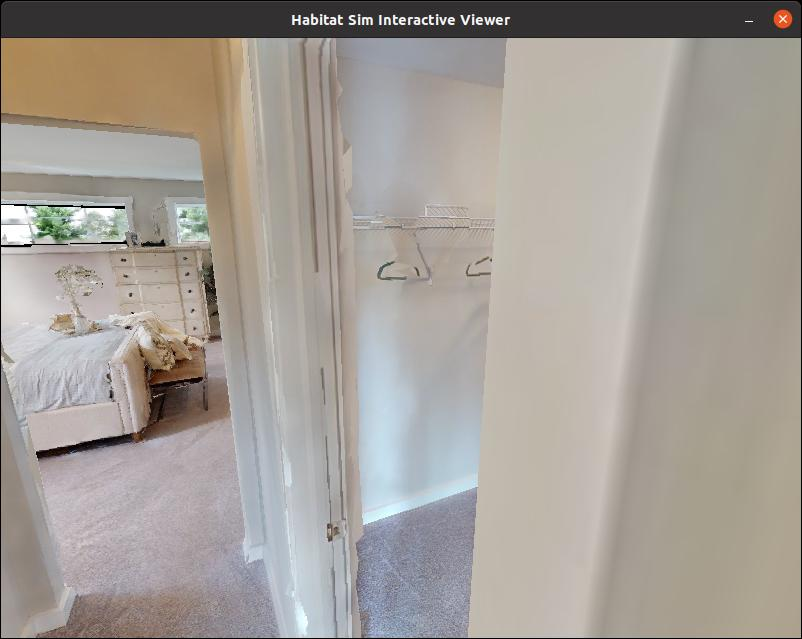bed: (0, 277, 165, 467)
door-frame: (287, 37, 524, 635), (1, 94, 248, 609)
